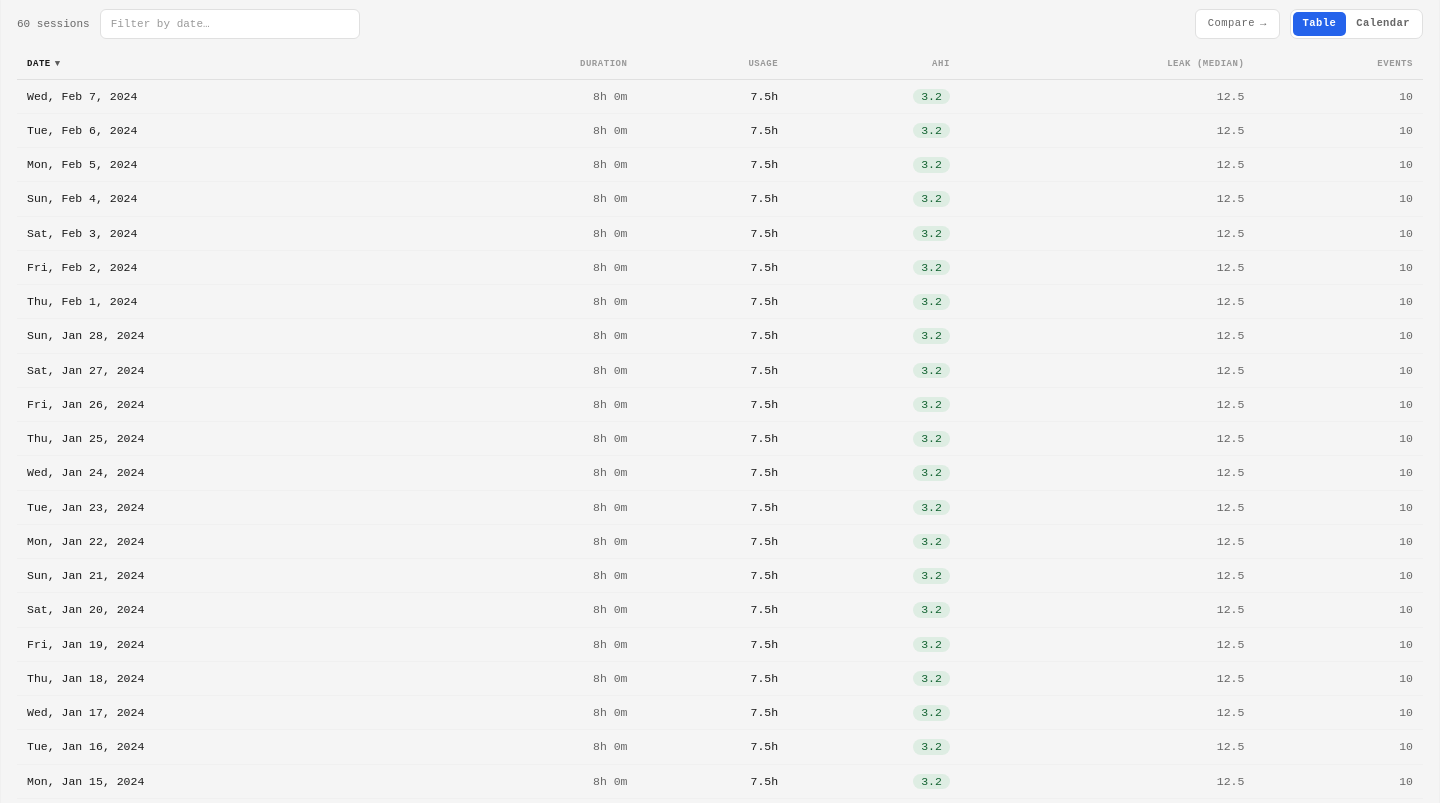
Test case: SessionList — pagination URL state › resets to page 1 (drops ?page) when the search filter changes — didMount guard does not suppress it
The image size is (1440, 803).
Type "2024" into the search field named "filter sessions by date" at (230, 24), box [100,9,360,39]
(page scrolled)
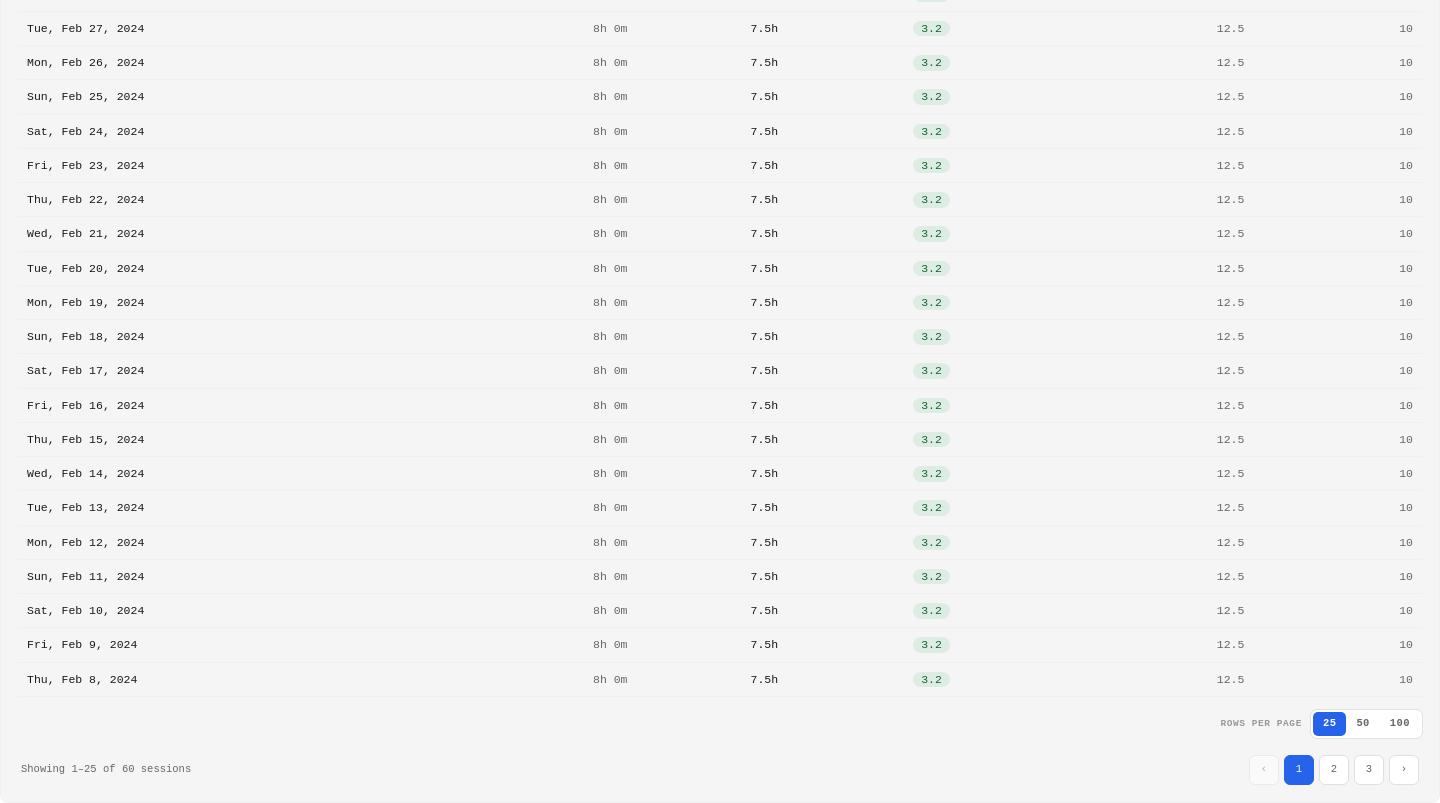
Now the text "Showing 1–25 of 60 sessions" is shown, box [21,762,191,778]
